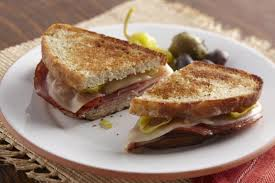sandwich: (27, 16, 175, 127), (121, 52, 267, 164)
